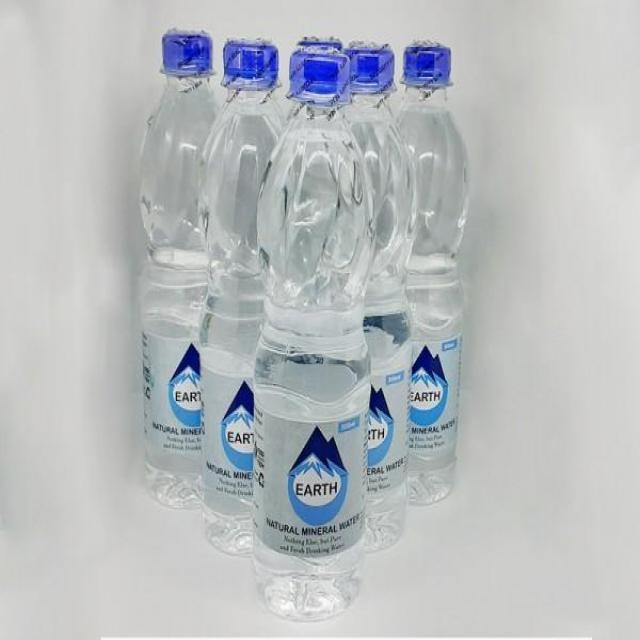bottle: (247, 32, 385, 640)
